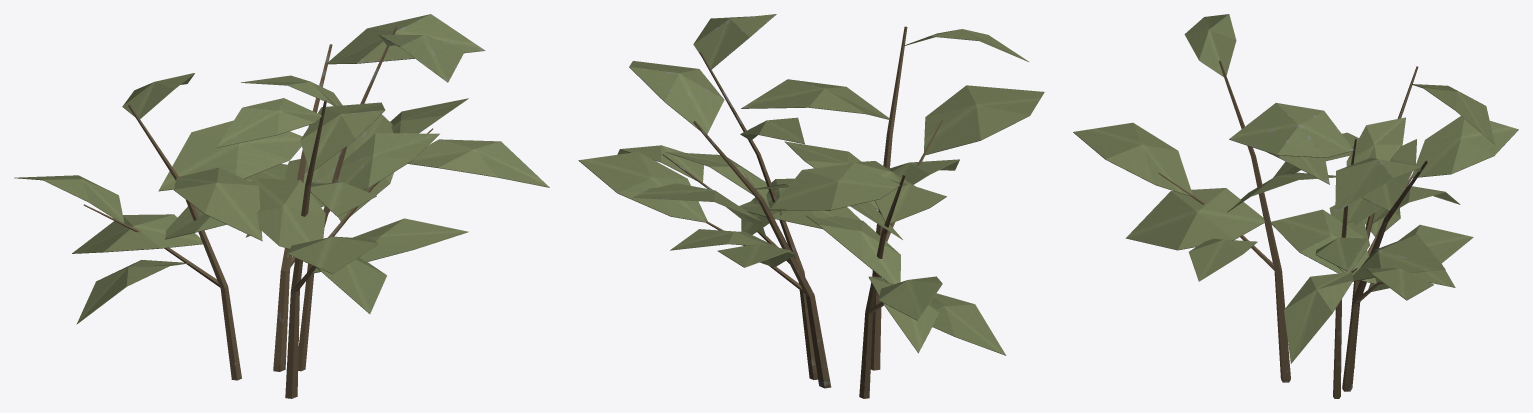
File: forest_undergrowth_A.glb
3 renders of one model, left to right at view 1: azimuth 30°, elevation 25°; view 2: azimuth 150°, elevation 25°; view 3: azimuth 270°, elevation 25°, orthographic.
Visible parts, largest first — view 1: UndergrowthA; view 2: UndergrowthA; view 3: UndergrowthA.
Part boxes in pixels (left/top/right/bottom): UndergrowthA: left=14, top=14, right=549, bottom=398; UndergrowthA: left=578, top=14, right=1044, bottom=398; UndergrowthA: left=1073, top=14, right=1518, bottom=398.
Size of the model in its own units: 0.9 by 0.65 by 0.8.
Materials: 1 (1 with a texture image).
